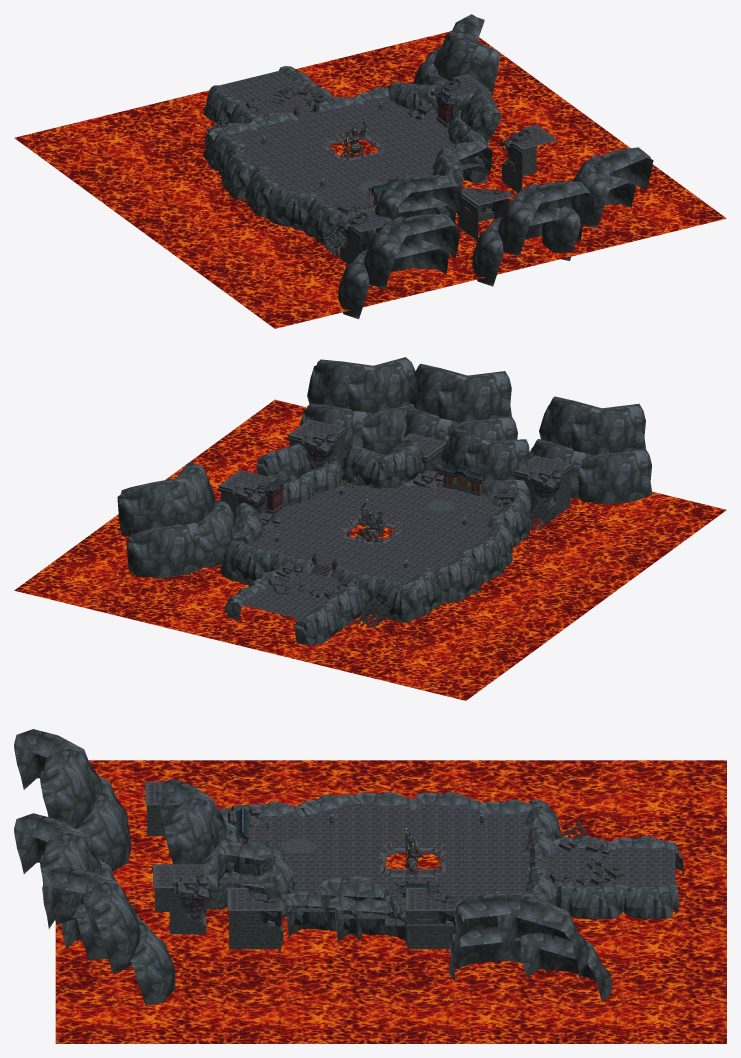
File: digong2.fbx
3 views of the same model, one above another, from view 1: azimuth 30°, elevation 25°; view 2: azimuth 150°, elevation 25°; view 3: azimuth 270°, elevation 25° (orthographic). The views are drawn at different scales.
Parts seen in each view (by area): view 1: polySurface2189, polySurface2229, polySurface2230, polySurface2367, polySurface2169, pCube53, polySurface2320, polySurface2319, pCube54, polySurface2370, polySurface2157, polySurface2208 (+8 smaller); view 2: polySurface2189, polySurface2229, polySurface2169, polySurface2230, polySurface2320, polySurface2367, pCube53, pCube54, polySurface2157, polySurface2319, polySurface2370, polySurface2208 (+9 smaller); view 3: polySurface2189, polySurface2229, polySurface2169, polySurface2367, polySurface2230, pCube54, polySurface2370, pCube53, polySurface2157, polySurface2208, polySurface2187, polySurface2320 (+6 smaller).
Boxes of the visible parts, x1,y1,x2,y2 form: polySurface2189: (14,31,726,328); polySurface2229: (472,147,653,286); polySurface2230: (338,214,459,319); polySurface2367: (269,157,394,264); polySurface2169: (388,14,500,114); pCube53: (308,74,489,144); polySurface2320: (203,85,298,199); polySurface2319: (245,166,377,257); pCube54: (366,129,514,240); polySurface2370: (231,114,339,172); polySurface2157: (360,175,461,252); polySurface2208: (447,88,527,183); polySurface2189: (14,399,726,700); polySurface2229: (299,357,517,454); polySurface2169: (117,462,263,578); polySurface2230: (529,396,652,504); polySurface2320: (294,553,480,645); polySurface2367: (385,455,573,550); pCube53: (217,470,357,565); pCube54: (284,433,446,522); polySurface2157: (433,428,530,500); polySurface2319: (454,487,558,584); polySurface2370: (325,534,463,583); polySurface2208: (256,443,354,506); polySurface2189: (55,760,726,1043); polySurface2229: (14,813,175,1005); polySurface2169: (448,892,612,1001); polySurface2367: (144,781,401,862); polySurface2230: (14,729,131,871); pCube54: (152,863,401,934); polySurface2370: (401,803,529,862); pCube53: (401,863,529,949); polySurface2157: (156,778,240,909); polySurface2208: (248,875,410,950); polySurface2187: (524,866,679,919); polySurface2320: (415,791,684,876).
Bounding box in the file's own units: 175 × 36.16 × 185.
